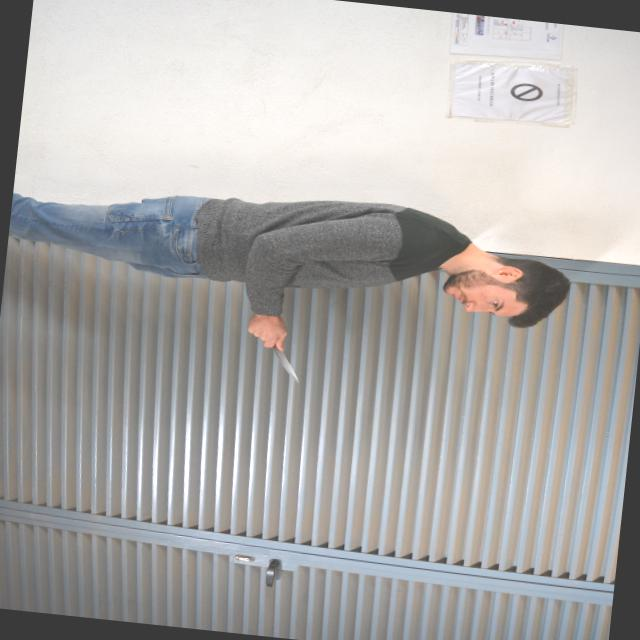knife: (257, 330, 307, 388)
